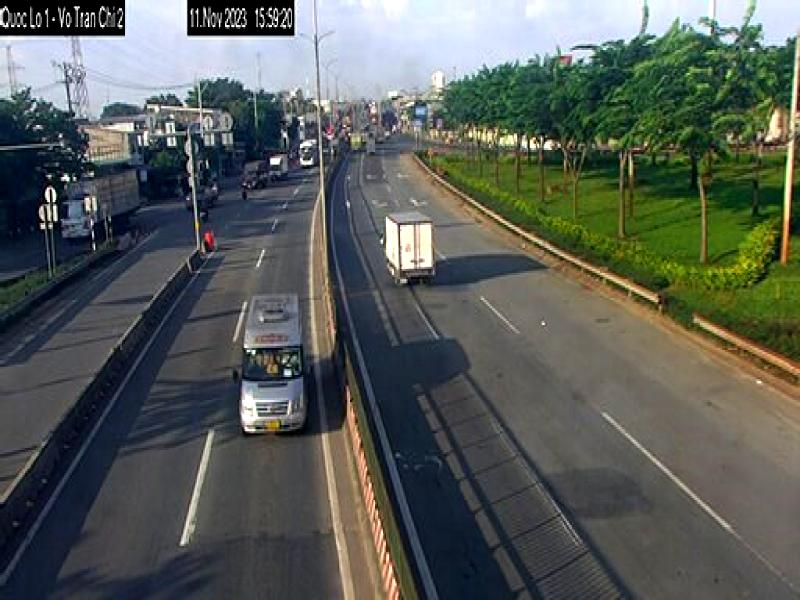truck: (60, 158, 144, 244), (382, 210, 440, 288)
